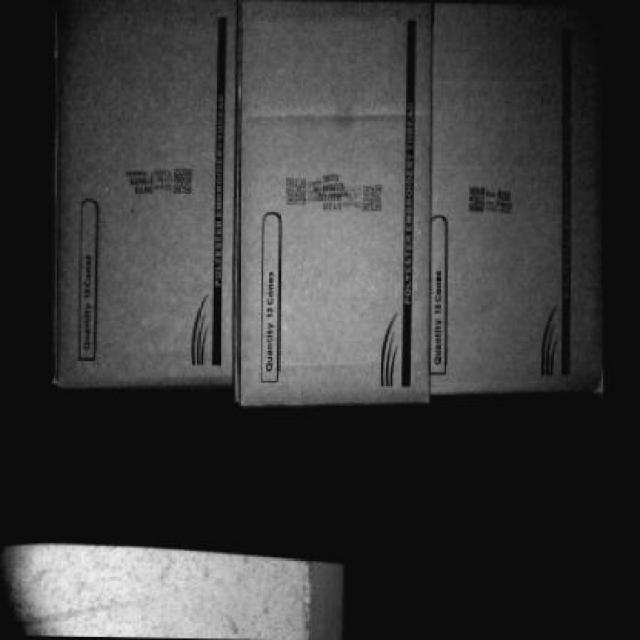cardboxes: (235, 4, 437, 404), (52, 0, 238, 386), (436, 6, 602, 391)
